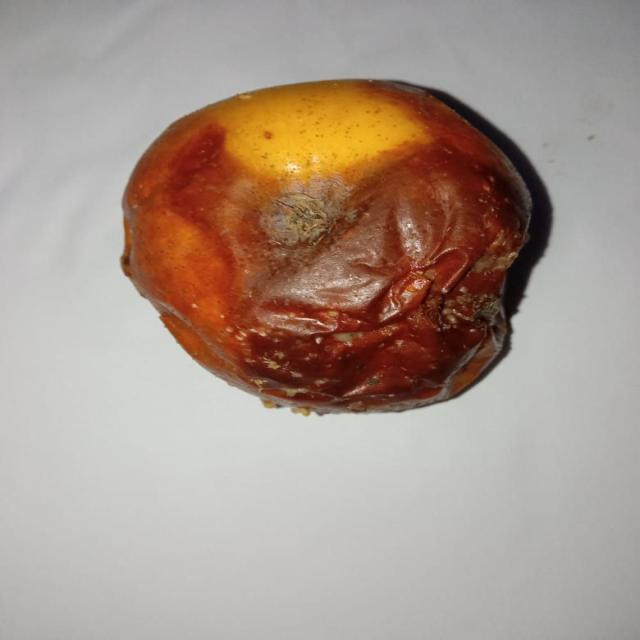rotten_apple: (127, 81, 536, 414)
